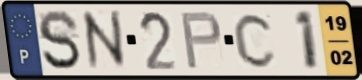1: (293, 9, 323, 72)
2: (138, 9, 179, 72)
C: (231, 11, 279, 70)
N: (78, 8, 131, 73)
P: (178, 10, 224, 71)
S: (35, 8, 84, 72)
